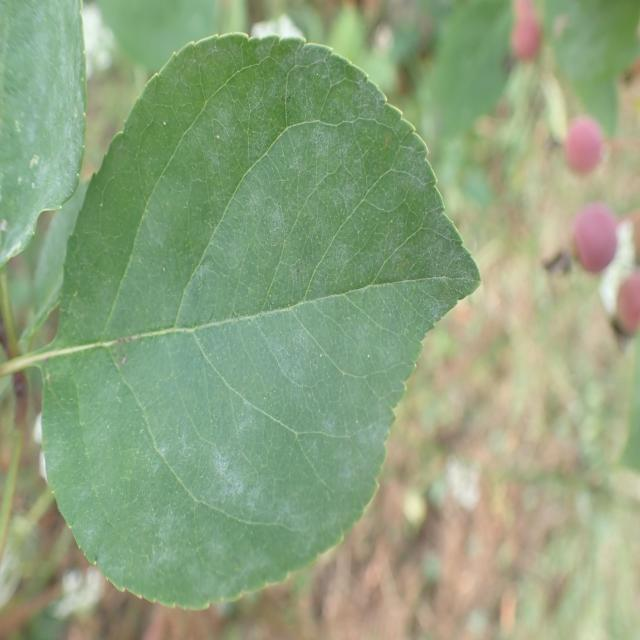Powdery_mildew: (45, 29, 473, 601), (0, 0, 92, 278)
